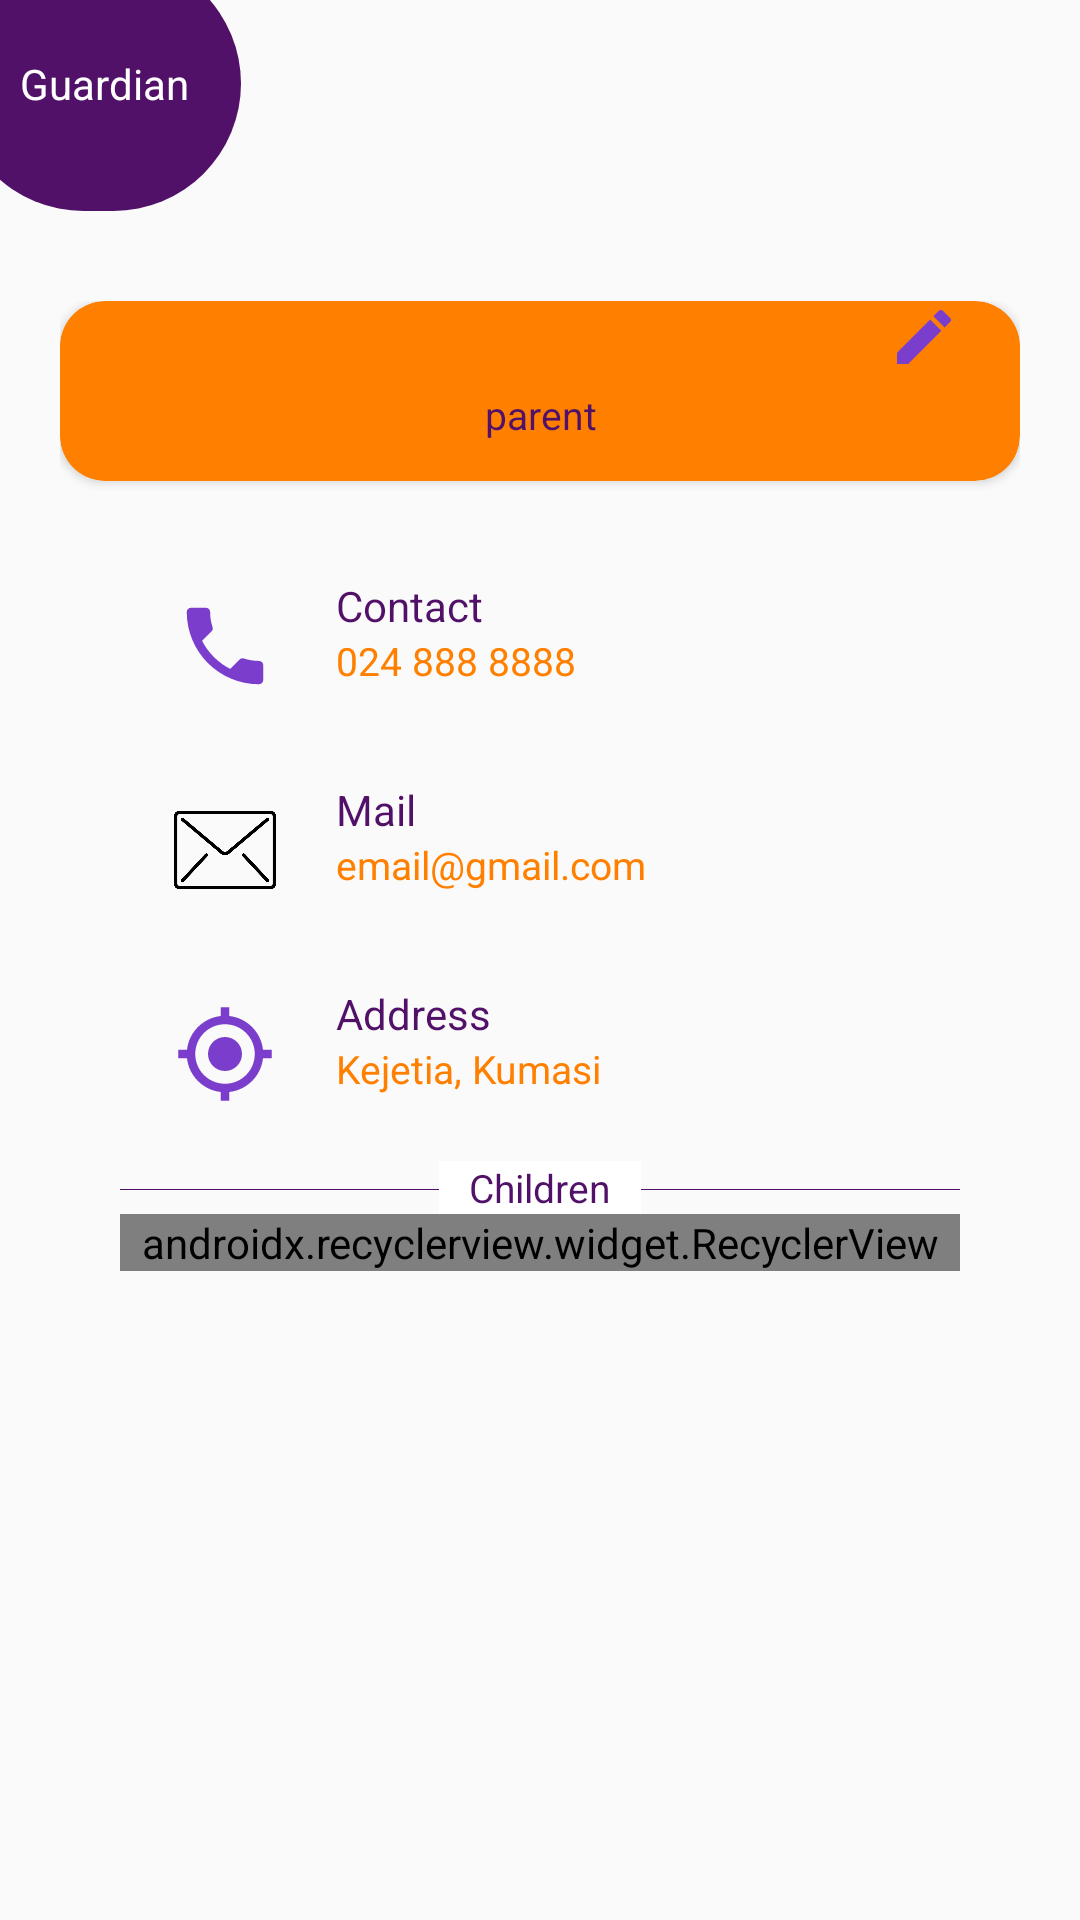

Point at icon controls on the screen. Image size 1080px x 1920px, points as (x=x, y=y).
location: (x=225, y=1054)
phone: (x=225, y=646)
